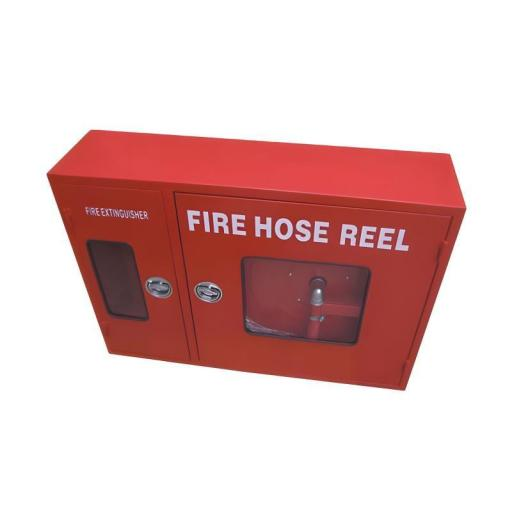fire_hose: (41, 120, 476, 396)
